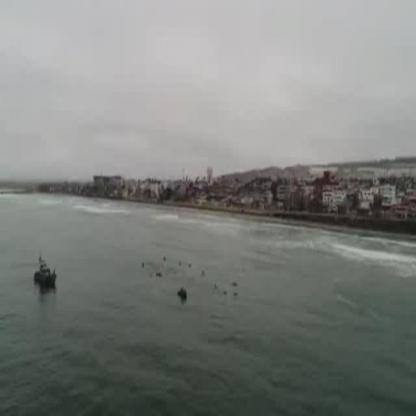Boat: (33, 254, 60, 297)
